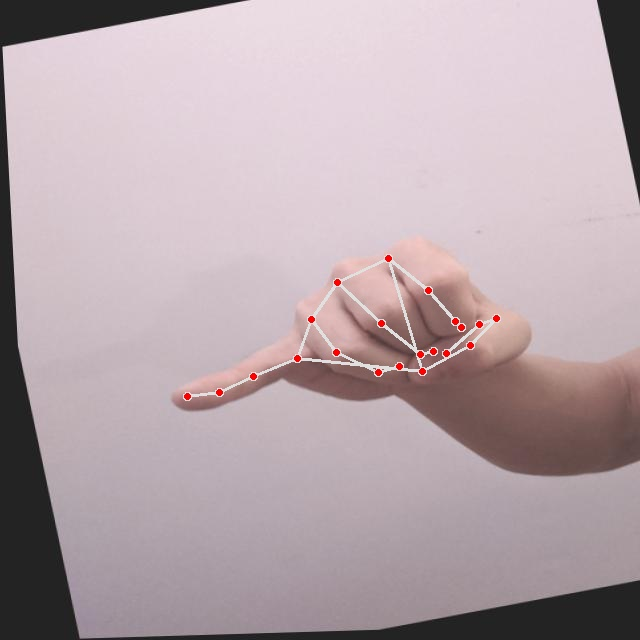J: (128, 208, 557, 449)
